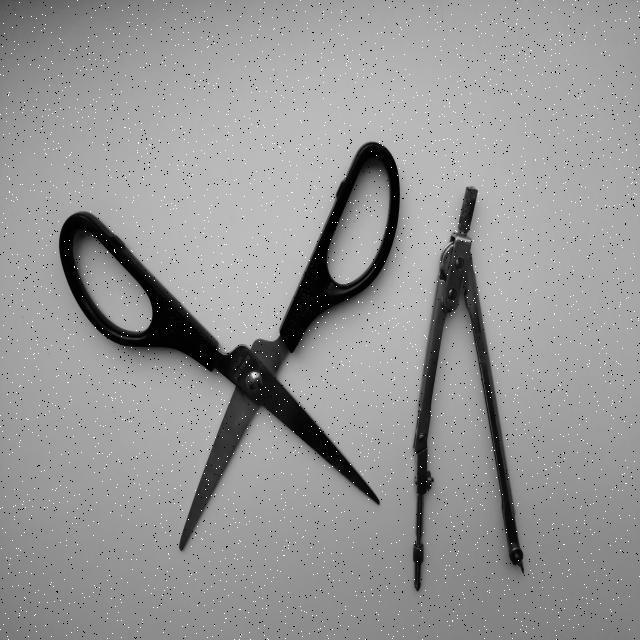scissors: (54, 137, 402, 558)
